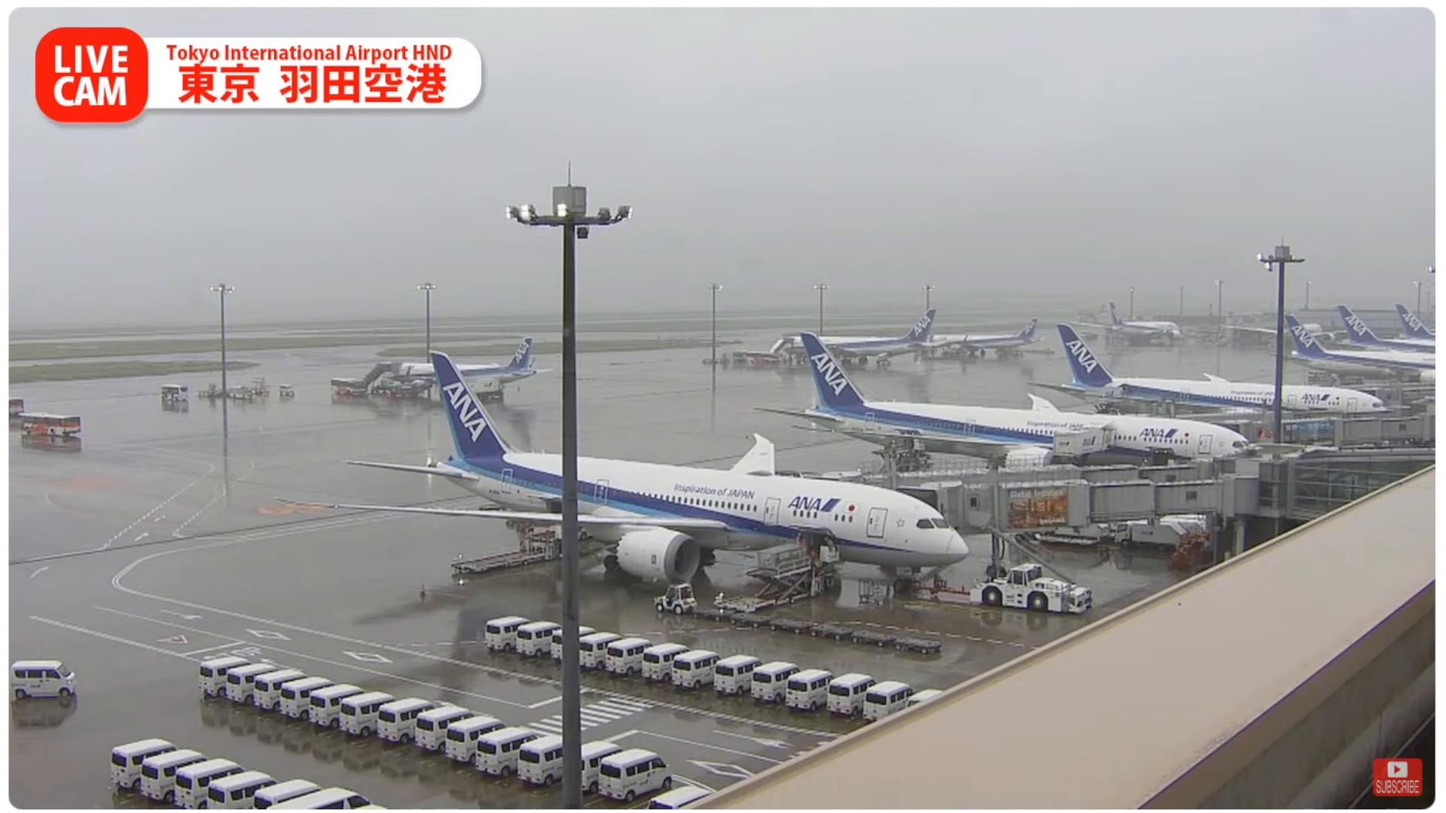APS: (968, 562, 1094, 614)
Aerobridge: (892, 474, 1261, 535), (796, 455, 1210, 487)
Airplane: (270, 351, 970, 592)
Dolly: (694, 601, 942, 655)
JCPL: (715, 550, 838, 610), (447, 522, 563, 573)
Tractor: (655, 583, 695, 616)
Window: (1292, 458, 1433, 516)
